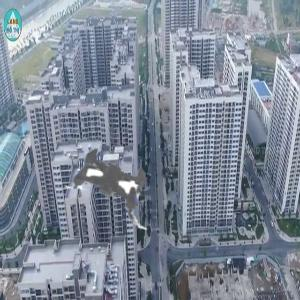drone: (22, 91, 196, 265)
